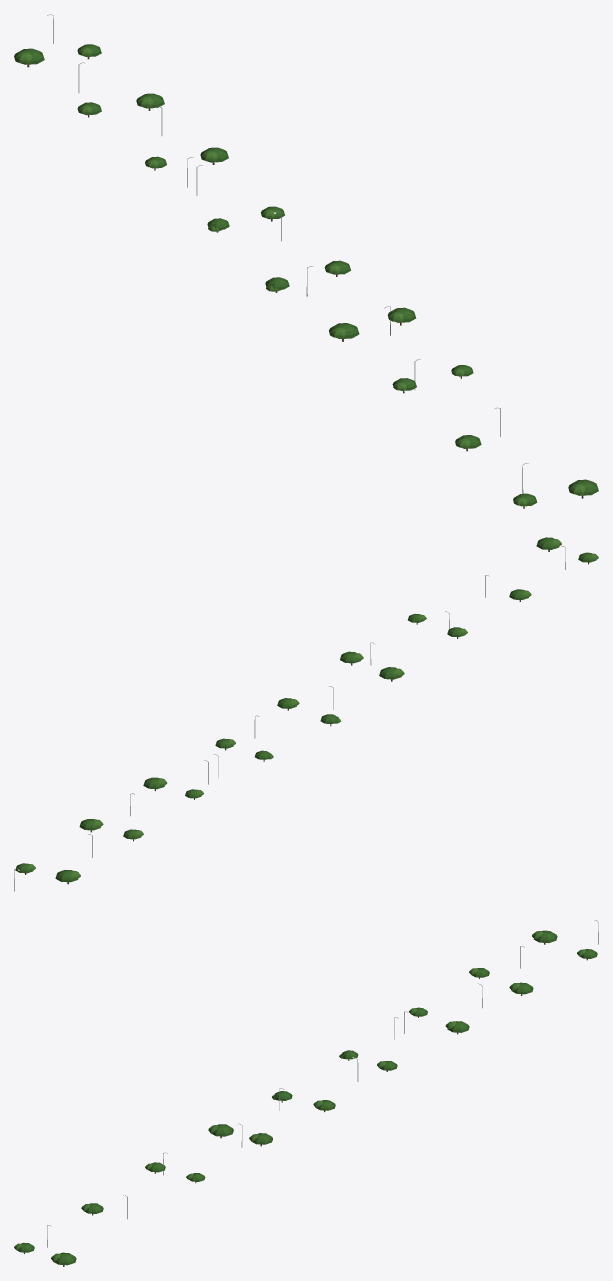
The model's file is pb_jei_1.glb.
The picture shows the model from 3 angles, top to bottom: view 1: azimuth 30°, elevation 25°; view 2: azimuth 150°, elevation 25°; view 3: azimuth 330°, elevation 25°; orthographic projection. The views are drawn at different scales.
Visible parts, largest first — view 1: pb_jei_1_lod0; view 2: pb_jei_1_lod0; view 3: pb_jei_1_lod0.
Boxes of the visible parts, <box> form: pb_jei_1_lod0: <box>14,14,598,508</box>; pb_jei_1_lod0: <box>14,537,598,891</box>; pb_jei_1_lod0: <box>14,920,598,1266</box>.
Size of what is drawn, in the model's own units: 59.6 by 15.69 by 381.
